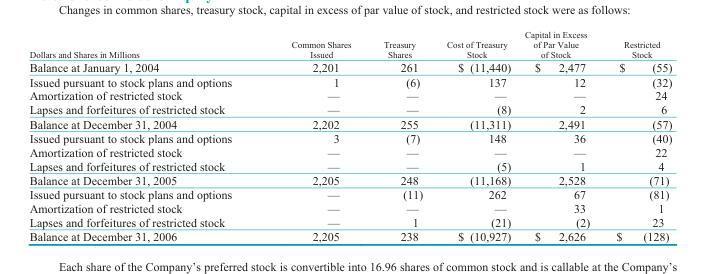table: (28, 28, 671, 242)
table column: (28, 28, 260, 242), (260, 28, 366, 242), (517, 28, 602, 242), (434, 28, 517, 242), (602, 28, 671, 242), (366, 28, 434, 242)
table column header: (28, 28, 671, 59)
table row: (28, 28, 671, 59), (28, 59, 671, 74), (28, 172, 671, 187), (28, 214, 671, 229), (28, 74, 671, 88), (28, 88, 671, 102), (28, 102, 671, 116), (28, 116, 671, 130), (28, 130, 671, 144), (28, 144, 671, 158), (28, 158, 671, 172), (28, 187, 671, 201), (28, 201, 671, 214), (28, 229, 671, 242)
